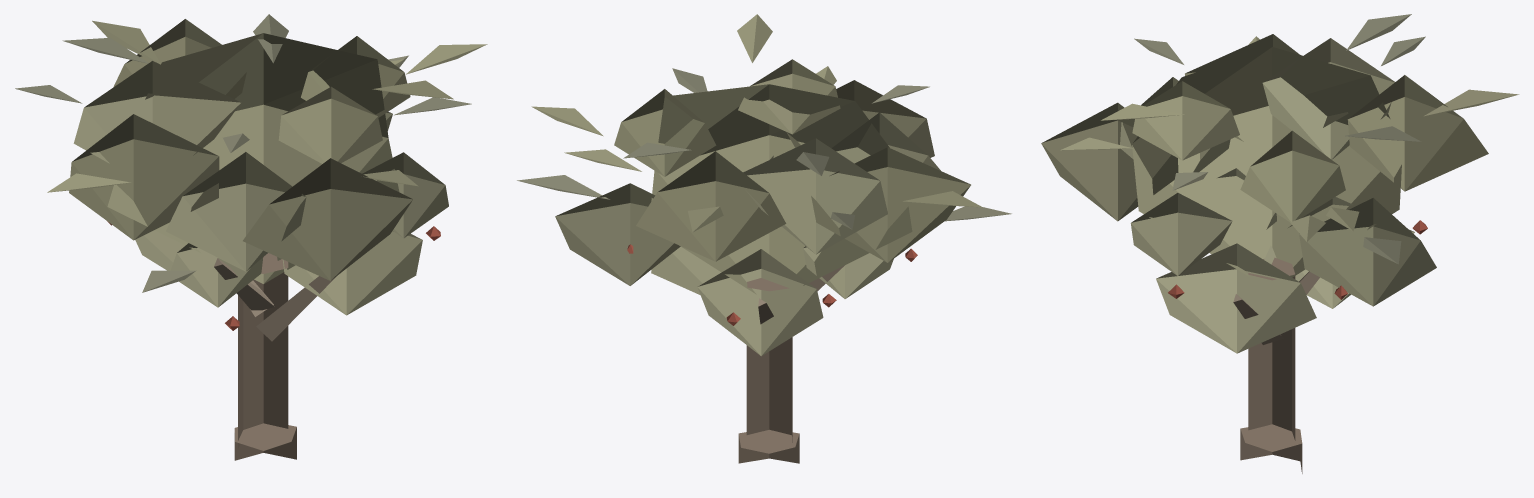
The model's file is shu.gaoshan@fruiting__winter.glb.
3 renders of one model, left to right at view 1: azimuth 30°, elevation 25°; view 2: azimuth 150°, elevation 25°; view 3: azimuth 270°, elevation 25°, orthographic. The views are drawn at different scales.
Parts seen in each view (by area): view 1: shu.gaoshan@fruiting__winter; view 2: shu.gaoshan@fruiting__winter; view 3: shu.gaoshan@fruiting__winter.
Boxes of the visible parts, x1,y1,x2,y2 form: shu.gaoshan@fruiting__winter: [15, 14, 487, 460]; shu.gaoshan@fruiting__winter: [517, 14, 1011, 463]; shu.gaoshan@fruiting__winter: [1041, 14, 1519, 473].
Bounding box in the file's own units: 15.44 × 13.09 × 14.14.
